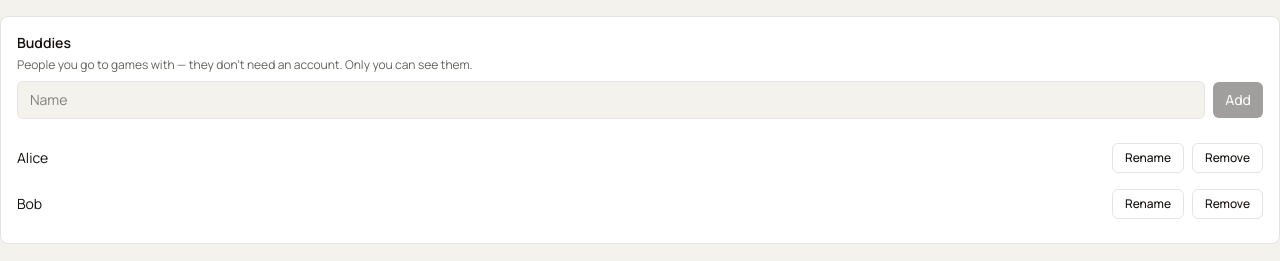
BuddyManager › removing one row does not disable another row's buttons
Click the button "Remove" in the row of "Alice": (1228, 158) [1192, 143, 1263, 173]
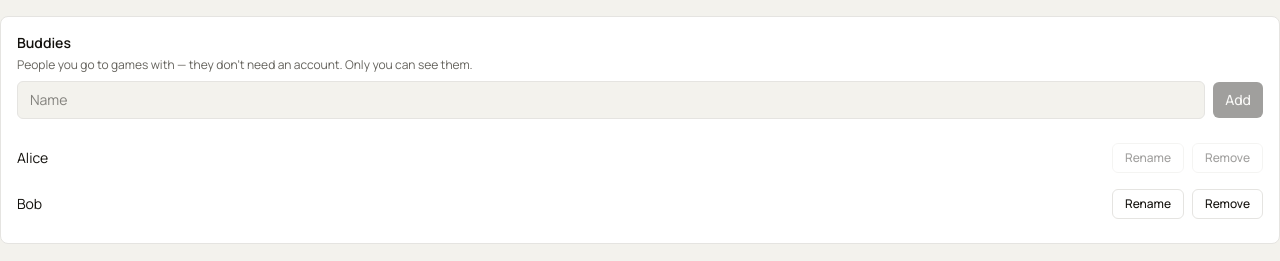
Expected: the button "Rename" in the row of "Bob" is enabled, [1112, 189, 1184, 219]
Expected: the button "Rename" in the row of "Alice" is disabled, [1112, 143, 1184, 173]
Expected: the button "Remove" in the row of "Alice" is disabled, [1192, 143, 1263, 173]
